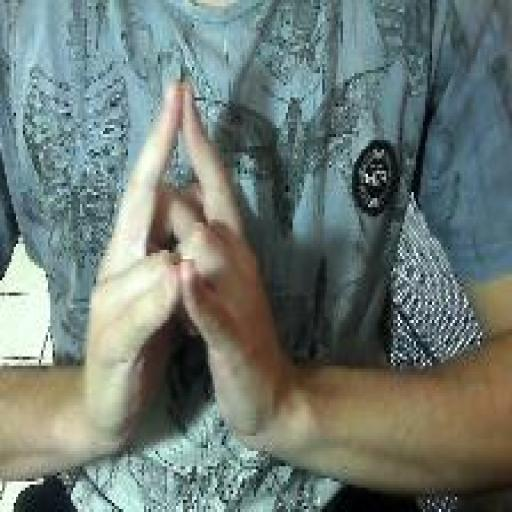Tori -bird-: (82, 74, 286, 458)
